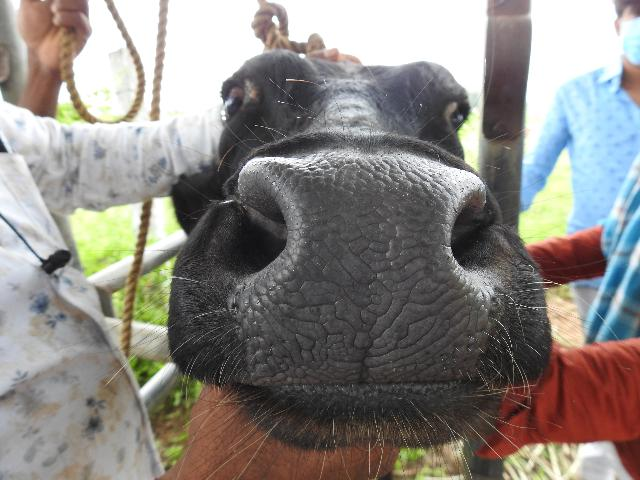Muzzle: (262, 158, 462, 378)
